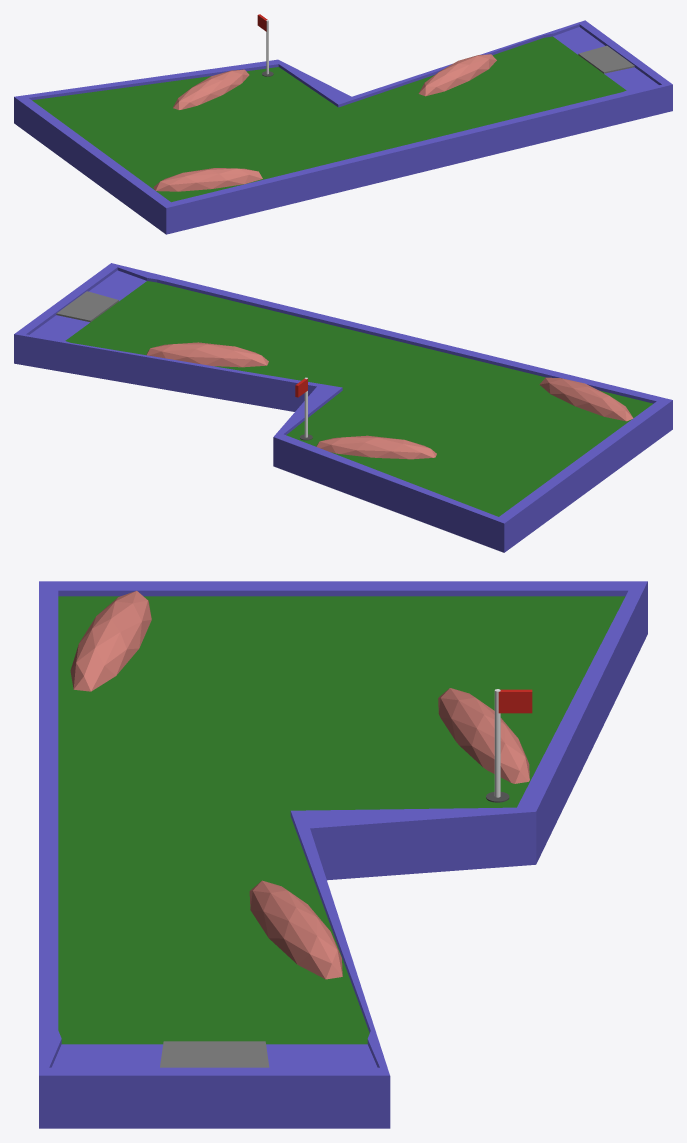
File: MiniGolf3.fbx
3 views of the same model, one above another, from view 1: azimuth 30°, elevation 25°; view 2: azimuth 150°, elevation 25°; view 3: azimuth 270°, elevation 25° (orthographic). The views are drawn at different scales.
Visible parts, largest first — view 1: Cube, Icosphere, Icosphere.001, Icosphere.002; view 2: Cube, Icosphere.001, Icosphere.002, Icosphere; view 3: Cube, Icosphere.001, Icosphere, Icosphere.002, Cube.001.
Part boxes in pixels (x1,y1,x2,y2): Cube: (14, 20, 672, 234); Icosphere: (153, 168, 262, 191); Icosphere.001: (418, 54, 496, 96); Icosphere.002: (173, 69, 249, 109); Cube: (14, 263, 672, 552); Icosphere.001: (146, 342, 268, 367); Icosphere.002: (316, 435, 436, 459); Icosphere: (539, 377, 633, 421); Cube: (39, 581, 647, 1128); Icosphere.001: (249, 880, 342, 979); Icosphere: (70, 591, 151, 691); Icosphere.002: (438, 688, 529, 783); Cube.001: (498, 689, 532, 713).
Size of the model in its own units: 1000 by 146 by 520.
